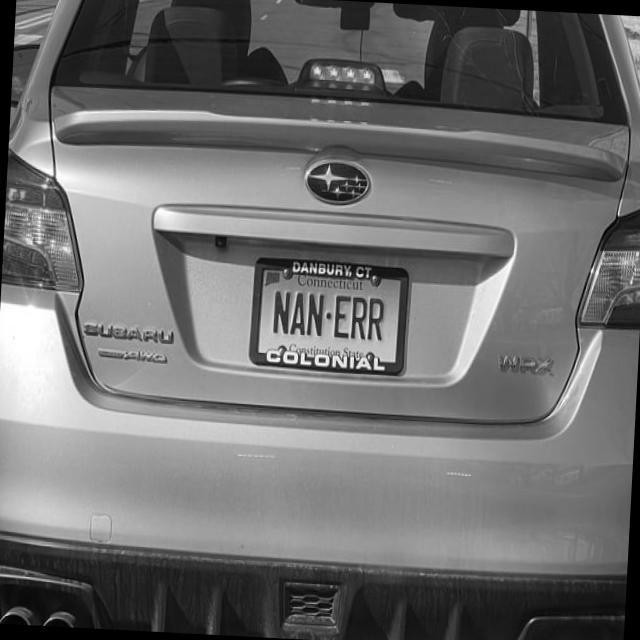LicensePlate: (249, 258, 411, 374)
